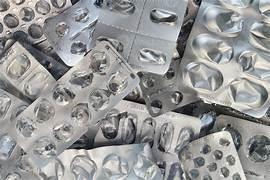pill_Strip: (9, 42, 138, 166)
